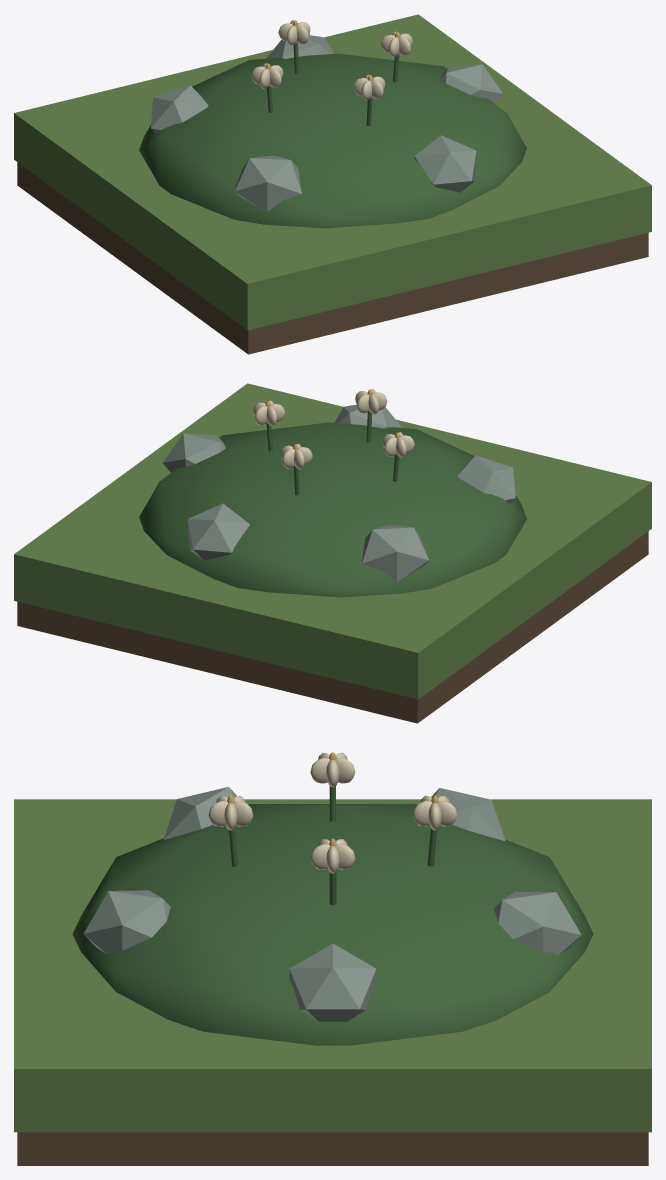
Rendered from terrain-hill.glb.
3 renders of one model, top to bottom at view 1: azimuth 30°, elevation 25°; view 2: azimuth 150°, elevation 25°; view 3: azimuth 270°, elevation 25°, orthographic. The views are drawn at different scales.
Parts seen in each view (by area): view 1: terrain-hill-visual; view 2: terrain-hill-visual; view 3: terrain-hill-visual.
Boxes of the visible parts, box(x1,y1,x2,y2) form: terrain-hill-visual: box(14, 14, 651, 354); terrain-hill-visual: box(14, 383, 651, 723); terrain-hill-visual: box(14, 752, 651, 1165).
Size of the model in its own units: 2 by 0.82 by 2.
